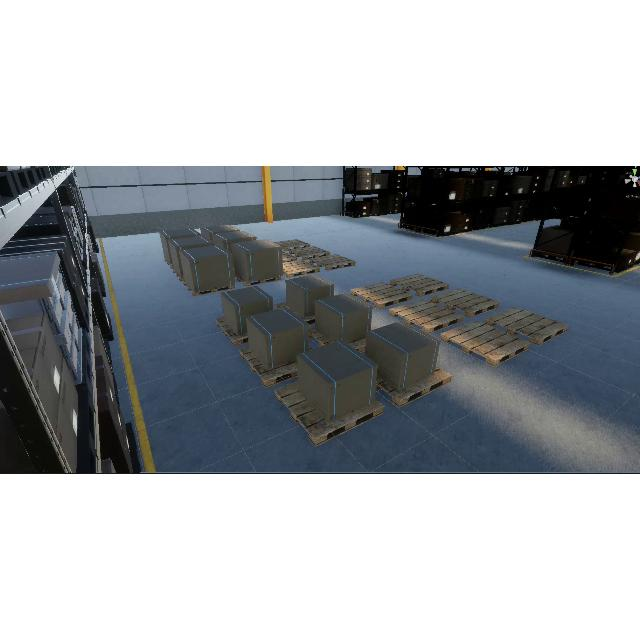wooden_pallet: (274, 381, 385, 445), (440, 321, 531, 367), (485, 306, 570, 346), (376, 364, 453, 407), (388, 298, 464, 334), (238, 345, 297, 388), (431, 288, 501, 318), (350, 281, 414, 309), (390, 273, 449, 297), (182, 278, 237, 296), (215, 317, 249, 346), (309, 253, 356, 271), (235, 272, 282, 287), (282, 259, 320, 277), (289, 245, 331, 260), (274, 239, 311, 251), (282, 250, 298, 261)
